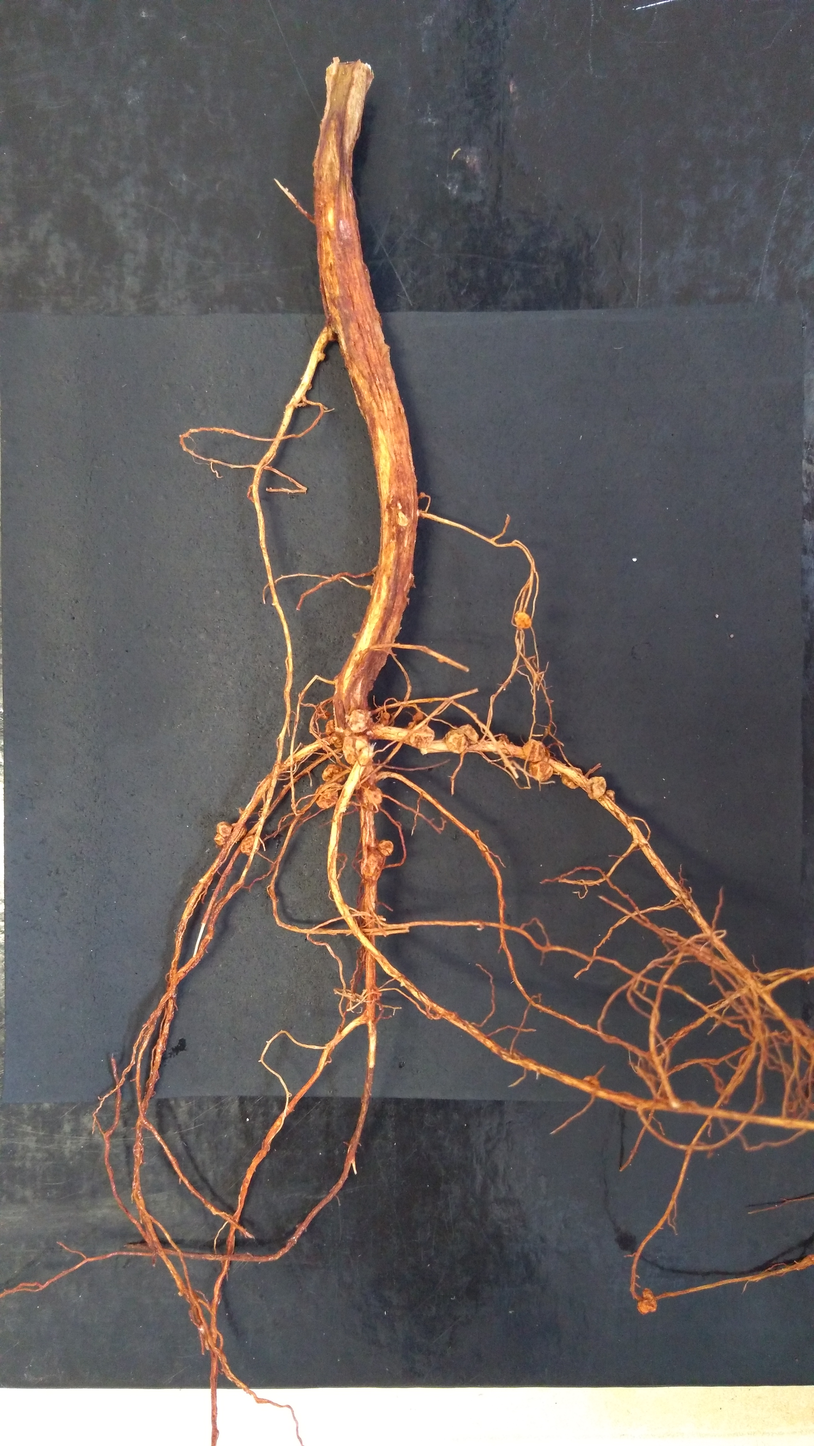nodule: (341, 735, 371, 767), (360, 848, 386, 882), (635, 1285, 659, 1318), (407, 723, 436, 750), (346, 707, 372, 735), (443, 728, 469, 755), (315, 784, 341, 809), (521, 738, 547, 763), (526, 759, 554, 782), (560, 765, 585, 790), (211, 820, 233, 847), (456, 722, 480, 746), (585, 775, 607, 801), (319, 762, 346, 783), (239, 834, 262, 857), (360, 785, 385, 806), (513, 610, 533, 631), (377, 837, 395, 857), (605, 788, 618, 804), (325, 719, 336, 736), (411, 710, 425, 723), (380, 712, 390, 724)
